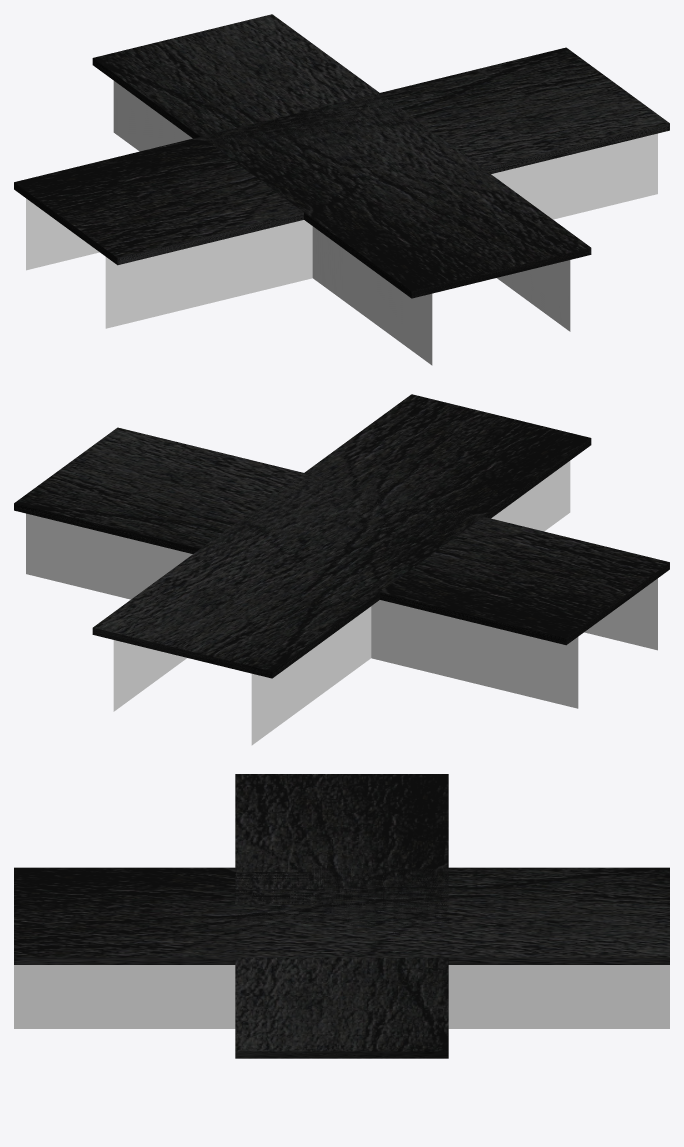
The model's file is nuclear2_painted.glb.
3 views of the same model, one above another, from view 1: azimuth 30°, elevation 25°; view 2: azimuth 150°, elevation 25°; view 3: azimuth 270°, elevation 25° (orthographic). The views are drawn at different scales.
Parts seen in each view (by area): view 1: Cube, Room.001, Room.002, Room, Baseboard.001; view 2: Cube, Room, Room.003, Room.001, Baseboard; view 3: Cube, Room.002, Room.003.
Part boxes in pixels (<box>): Cube: <box>14,14,669,298</box>; Room.001: <box>105,220,432,364</box>; Room.002: <box>491,133,657,329</box>; Room: <box>26,81,192,269</box>; Baseboard.001: <box>105,277,432,365</box>; Cube: <box>14,394,669,678</box>; Room: <box>251,600,578,744</box>; Room.003: <box>26,513,192,710</box>; Room.001: <box>491,461,657,648</box>; Baseboard: <box>252,657,578,745</box>; Cube: <box>14,774,669,1058</box>; Room.002: <box>14,965,235,1028</box>; Room.003: <box>448,965,669,1028</box>.
Bounding box in the file's own units: 40 × 5.5 × 40.
3 materials, 1 textured.
